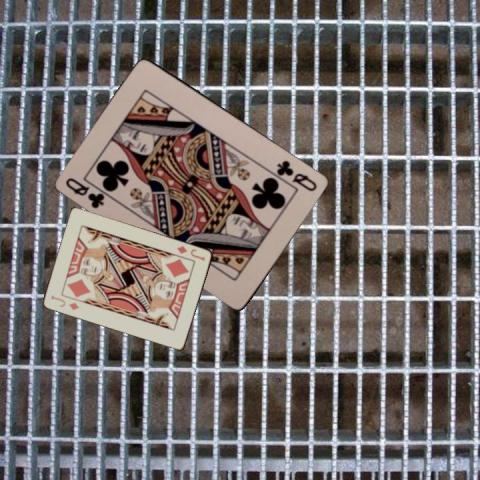Jd: (174, 242, 207, 262), (48, 292, 81, 311)
Qc: (274, 156, 319, 192), (63, 175, 107, 210)
